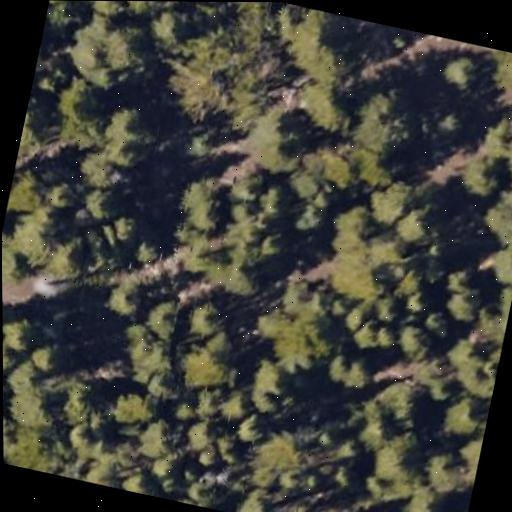tree-top: (253, 281, 348, 381), (340, 80, 430, 173), (61, 4, 155, 91), (268, 2, 360, 88), (169, 326, 244, 400), (1, 196, 74, 268), (293, 71, 362, 144), (168, 169, 236, 241), (360, 424, 430, 492), (187, 44, 256, 112), (246, 416, 313, 482), (3, 369, 67, 433), (318, 200, 381, 265), (451, 144, 511, 205), (8, 419, 69, 475), (375, 370, 432, 429), (250, 108, 307, 167), (437, 270, 491, 329), (68, 141, 127, 195), (128, 409, 182, 466), (361, 174, 416, 229), (322, 345, 380, 397), (104, 380, 159, 434), (434, 389, 487, 443), (57, 374, 108, 430), (142, 1, 192, 53), (17, 99, 58, 162), (317, 150, 366, 200), (390, 199, 438, 250), (5, 171, 53, 221), (183, 298, 232, 346), (449, 425, 485, 489), (438, 48, 486, 94), (103, 274, 150, 320), (476, 47, 512, 106), (40, 170, 87, 214), (392, 316, 436, 361), (26, 337, 70, 382), (220, 249, 262, 293), (106, 207, 146, 252), (145, 299, 187, 341), (447, 336, 493, 374), (129, 332, 175, 369), (178, 412, 218, 454), (230, 480, 280, 512), (387, 266, 427, 306), (107, 107, 146, 148), (230, 169, 269, 208), (252, 227, 290, 267), (119, 462, 162, 497), (230, 408, 268, 447), (260, 182, 295, 224), (2, 315, 38, 353), (176, 239, 214, 275), (296, 199, 329, 238), (78, 457, 119, 488), (81, 188, 117, 221), (400, 288, 435, 319), (490, 236, 512, 285), (63, 422, 98, 452), (369, 296, 400, 329), (260, 367, 292, 398), (354, 321, 383, 353), (342, 299, 370, 332), (223, 392, 252, 423), (435, 108, 464, 138), (421, 307, 449, 338), (326, 460, 357, 488), (369, 325, 399, 353), (413, 491, 452, 512), (115, 1, 165, 17), (191, 447, 219, 475), (193, 389, 221, 416), (213, 435, 240, 461), (490, 307, 509, 343), (338, 434, 365, 459), (249, 391, 280, 411), (287, 499, 331, 512), (166, 490, 200, 506), (503, 121, 512, 179), (356, 504, 408, 512), (3, 344, 16, 375)
